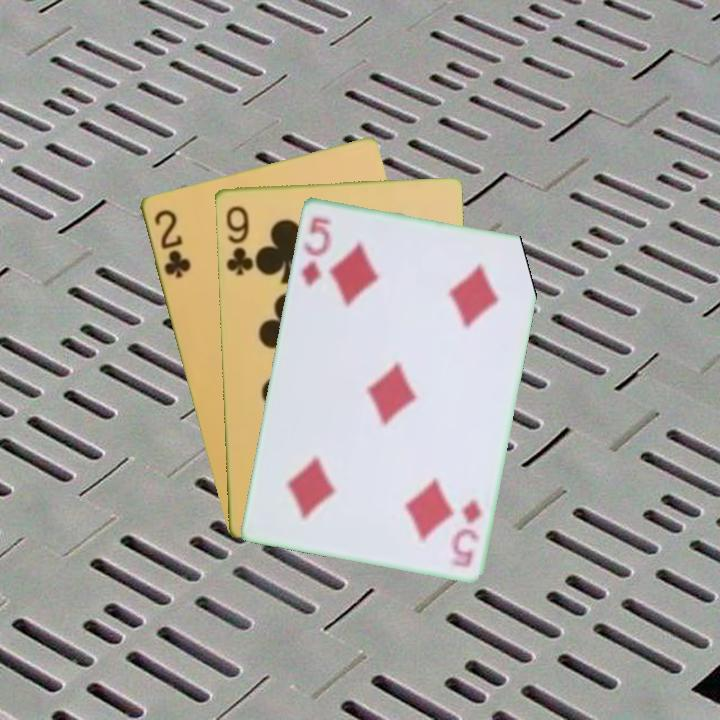2c: (150, 205, 193, 281)
5d: (298, 213, 334, 289), (447, 495, 483, 570)
9c: (222, 202, 255, 278)
